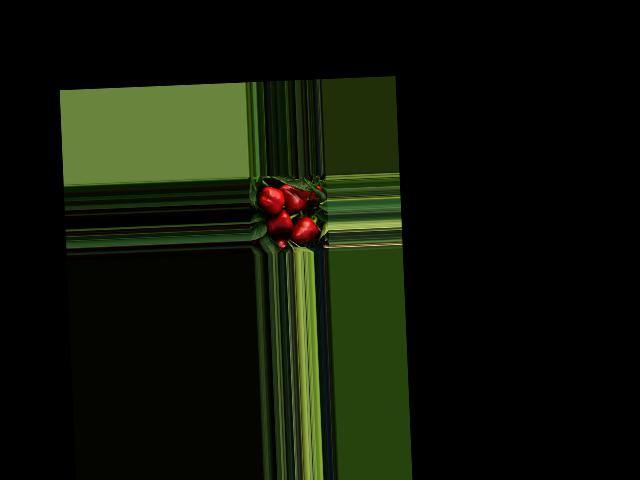bell_pepper: (257, 183, 286, 221)
